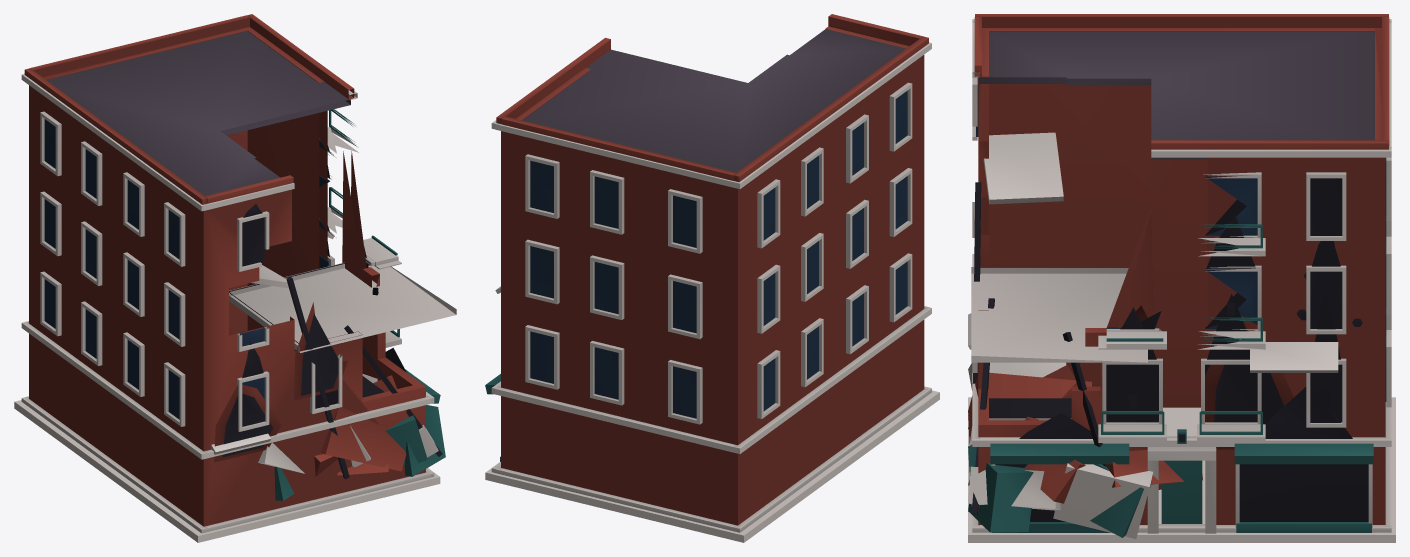
File: bld.apartment-block-a.w6.lod2.glb
3 renders of one model, left to right at view 1: azimuth 30°, elevation 25°; view 2: azimuth 150°, elevation 25°; view 3: azimuth 270°, elevation 25°, orthographic. The views are drawn at different scales.
Visible parts, largest first — view 1: body, roof; view 2: body, roof; view 3: body, roof, door_front.
Boxes of the visible parts, x1,y1,x2,y2 form: body: [14, 14, 456, 542]; roof: [47, 31, 350, 195]; body: [485, 14, 939, 542]; roof: [522, 29, 905, 172]; body: [968, 14, 1395, 542]; roof: [979, 31, 1374, 159]; door_front: [1161, 460, 1202, 523].
Bounding box in the file's own units: 10.3 × 12.85 × 12.6.
